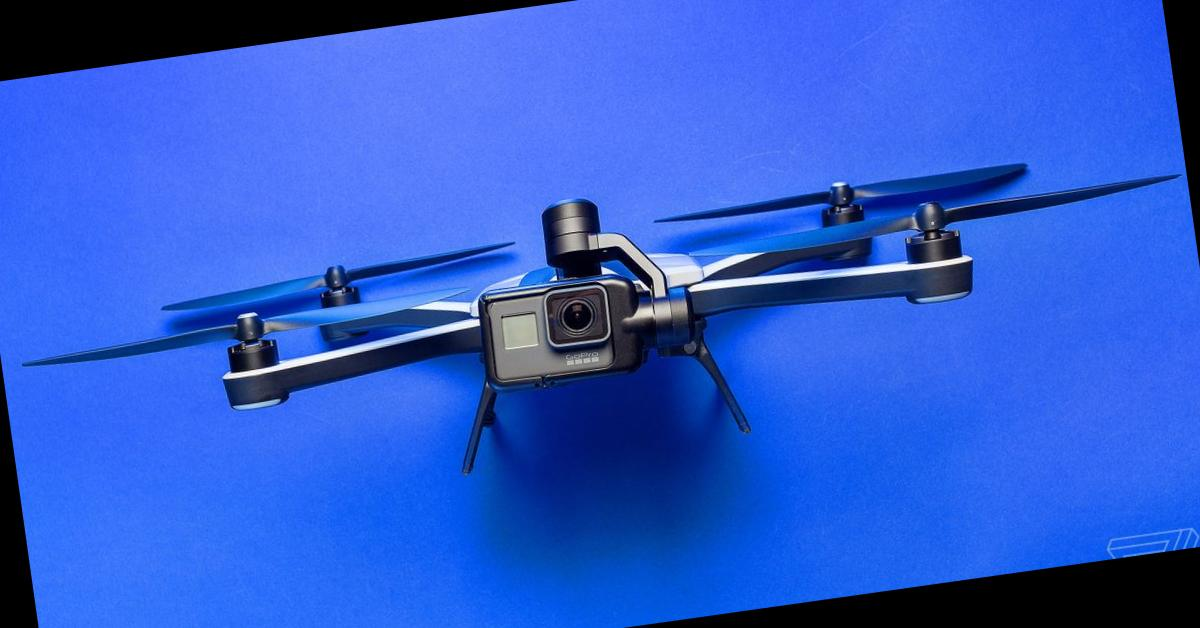drone: (96, 128, 1200, 485)
